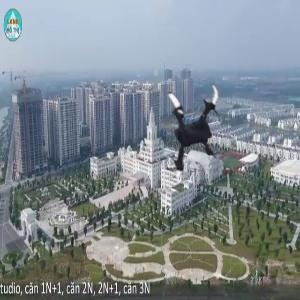drone: (135, 75, 241, 181)
